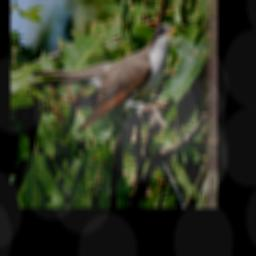Cuckoo: (25, 15, 177, 140)
